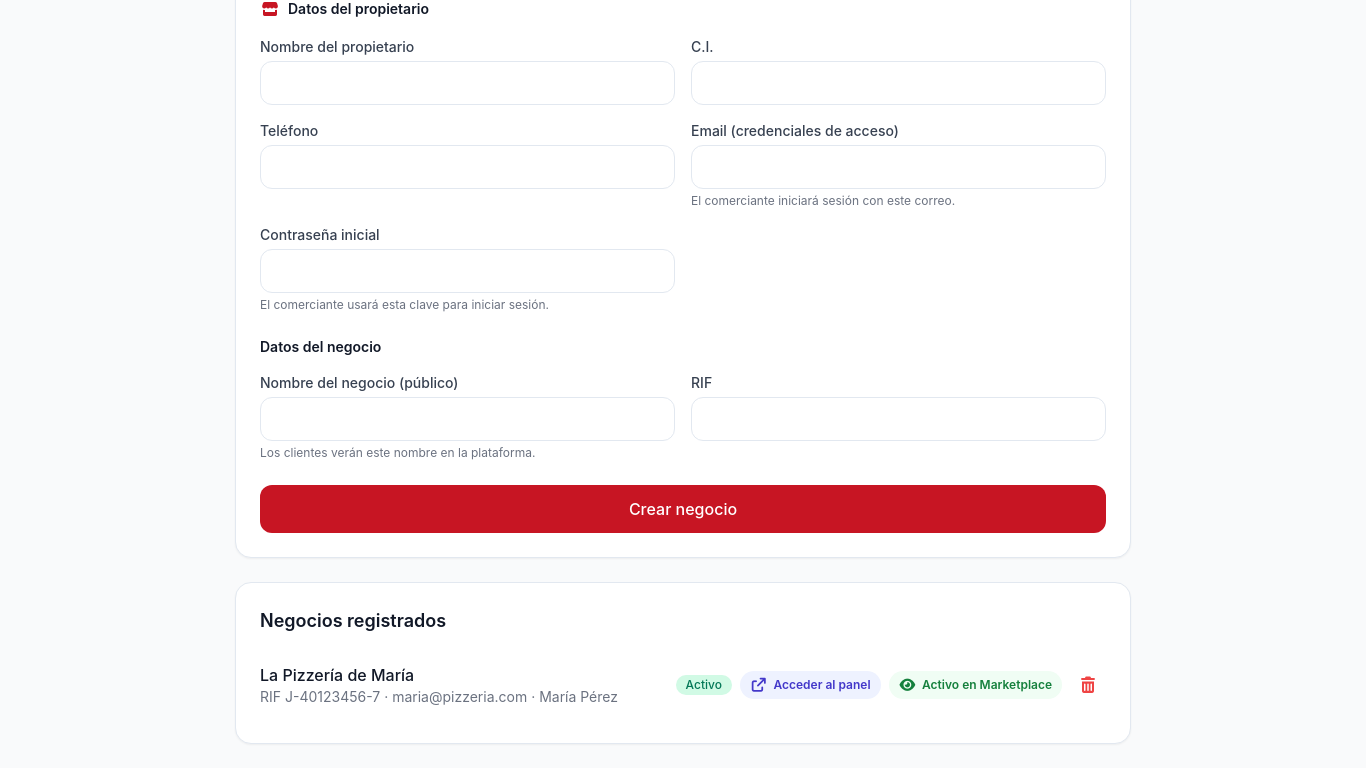
Test: SuperAdminMerchantsPage › eliminación de comercios › no elimina nada al cancelar la confirmación
(page scrolled)
Expected: the button with test id "merchant-row" is shown, x1=260 y1=665 x2=1106 y2=705
Click the button with test id "delete-merchant".
click(1088, 685)  # box x1=1070 y1=665 x2=1106 y2=705
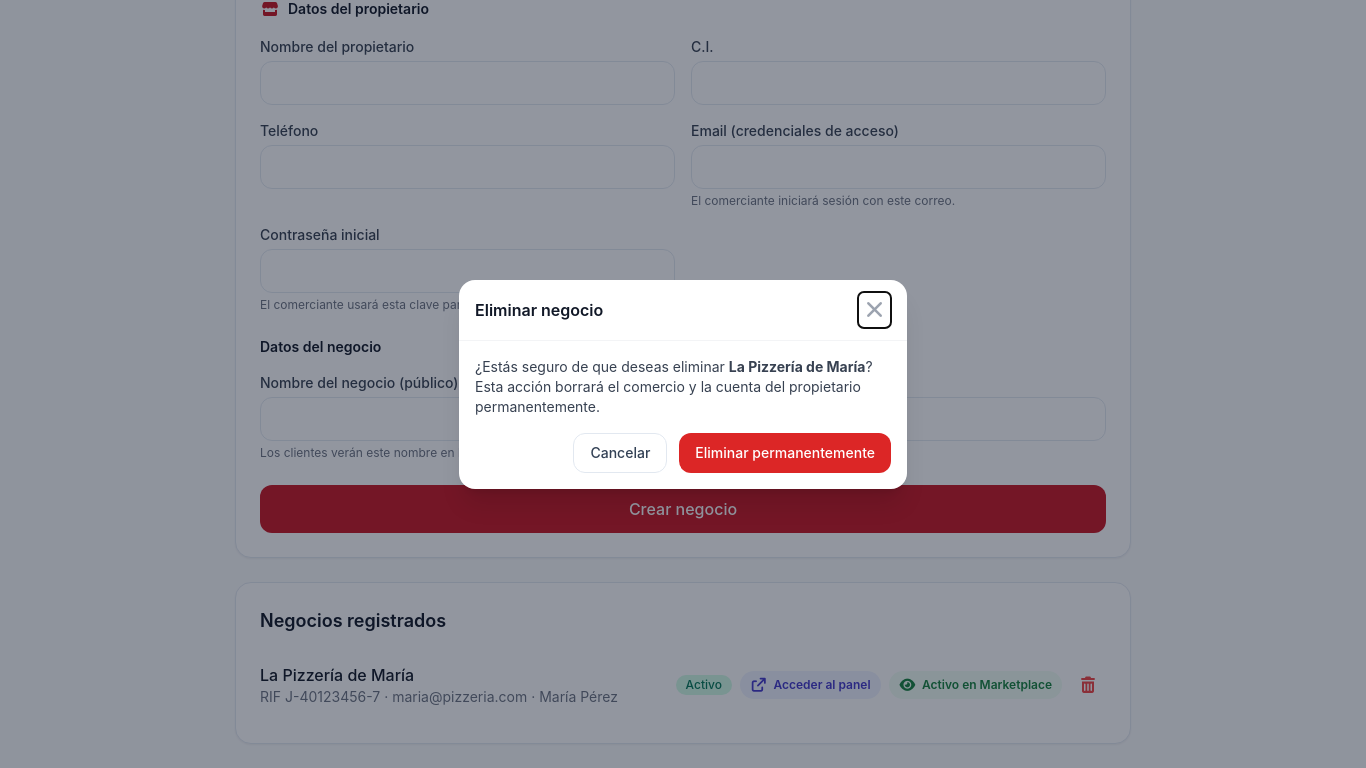
Click the button "Cancelar".
click(620, 452)  # box x1=574 y1=432 x2=667 y2=472
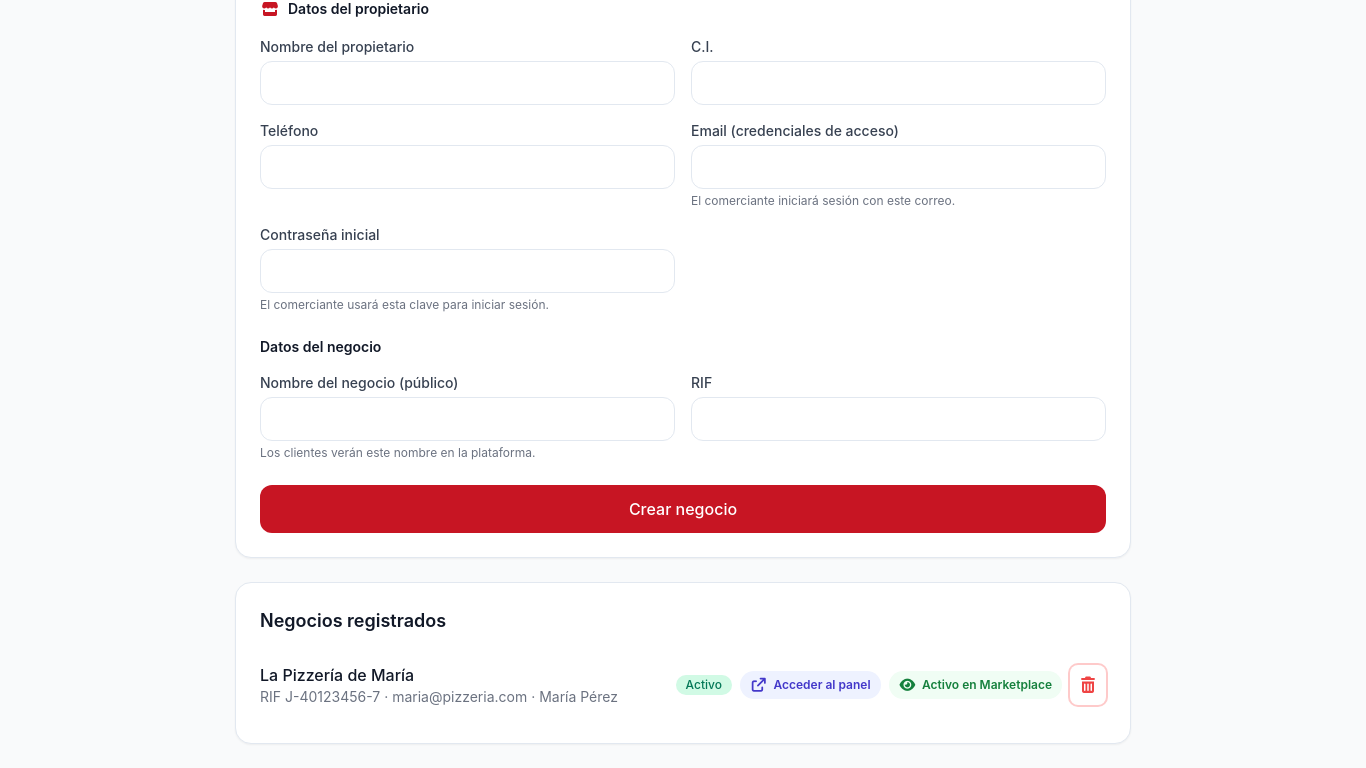
Expected: the text "¿Estás seguro de que deseas eliminar" is gone
